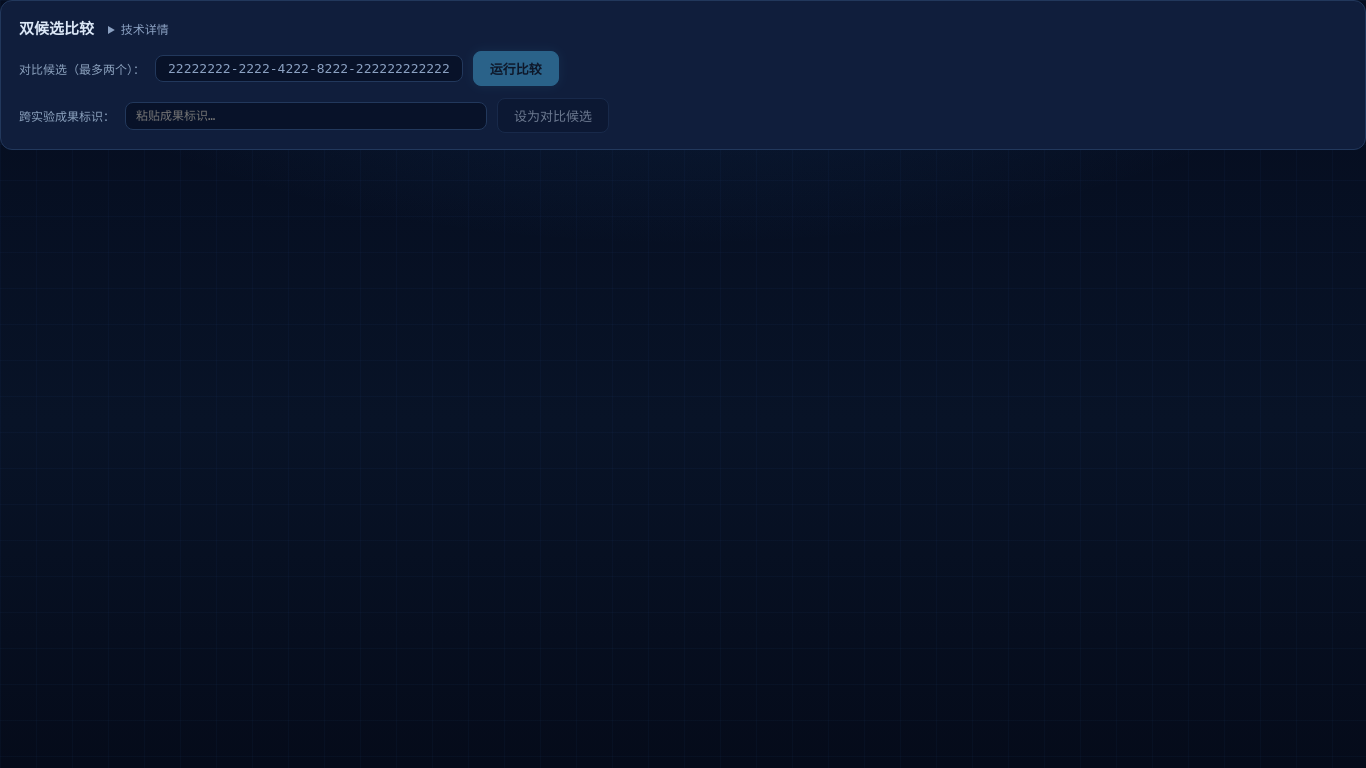
Test: CandidateComparison 跨实验候选输入 › 409（比较同一候选）：前端不自行拦截，透传后端错误封套
The width and height of the screenshot is (1366, 768).
Type "11111111-1111-4111-8111-111111111111" into the field with test id "comparison-external-input". click: (306, 116)
box: [125, 102, 487, 130]
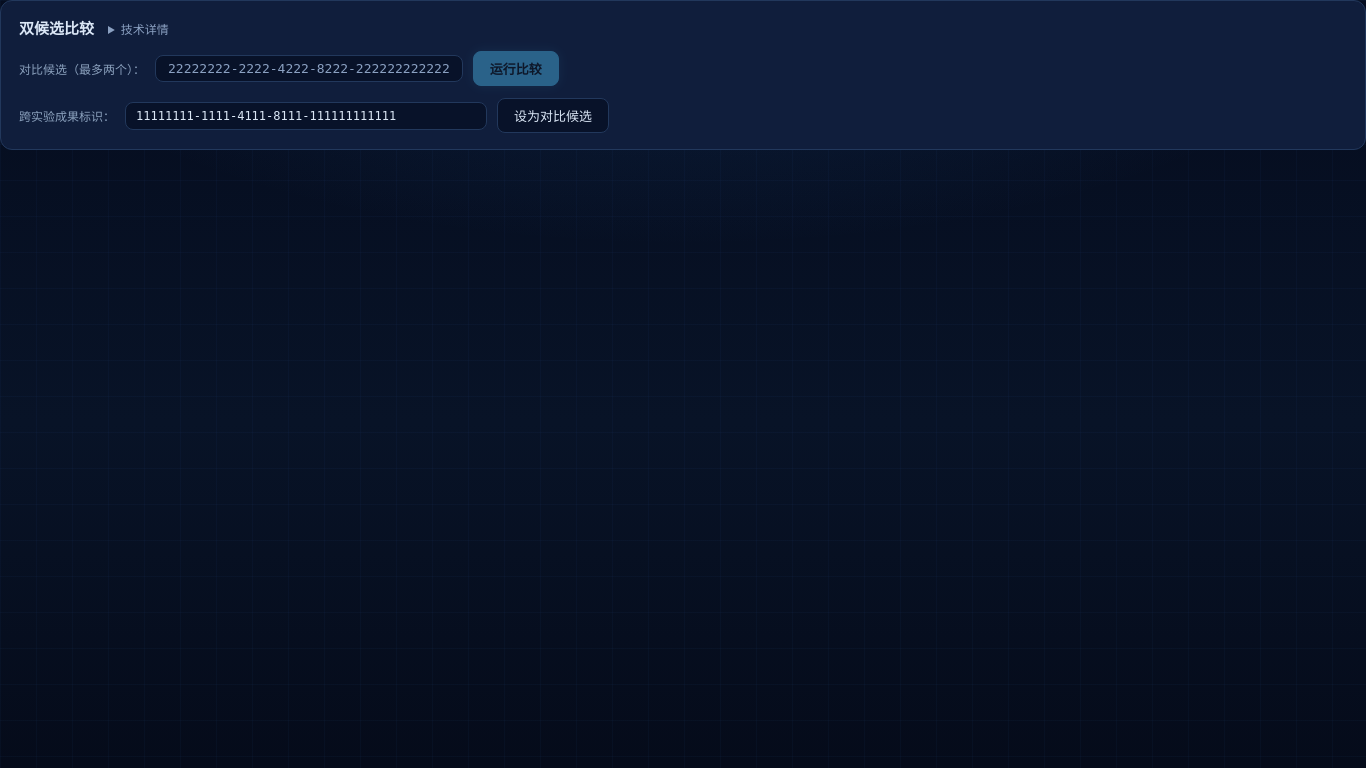
Click the button with test id "comparison-external-apply". click: (553, 116)
box: [497, 98, 609, 133]
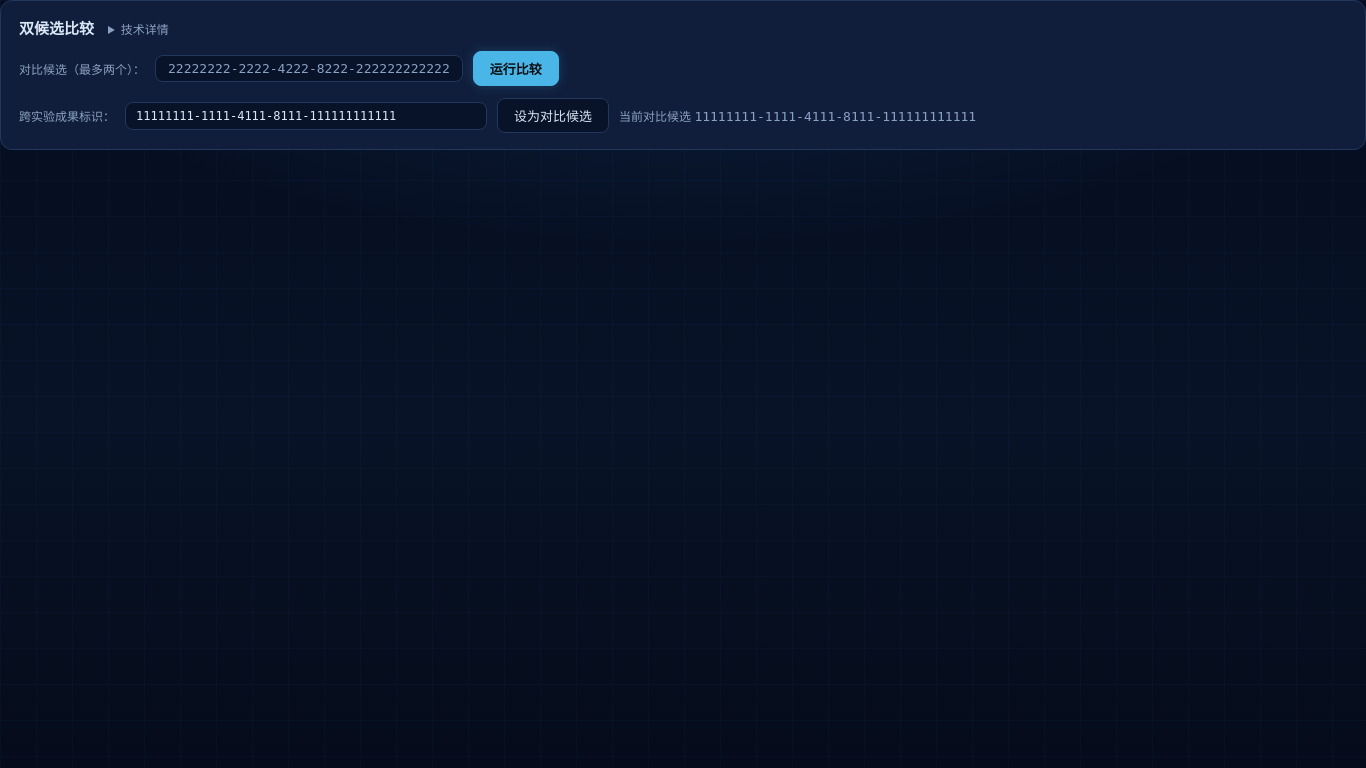
Click the button with test id "comparison-run". click: (516, 68)
box: [473, 51, 559, 86]
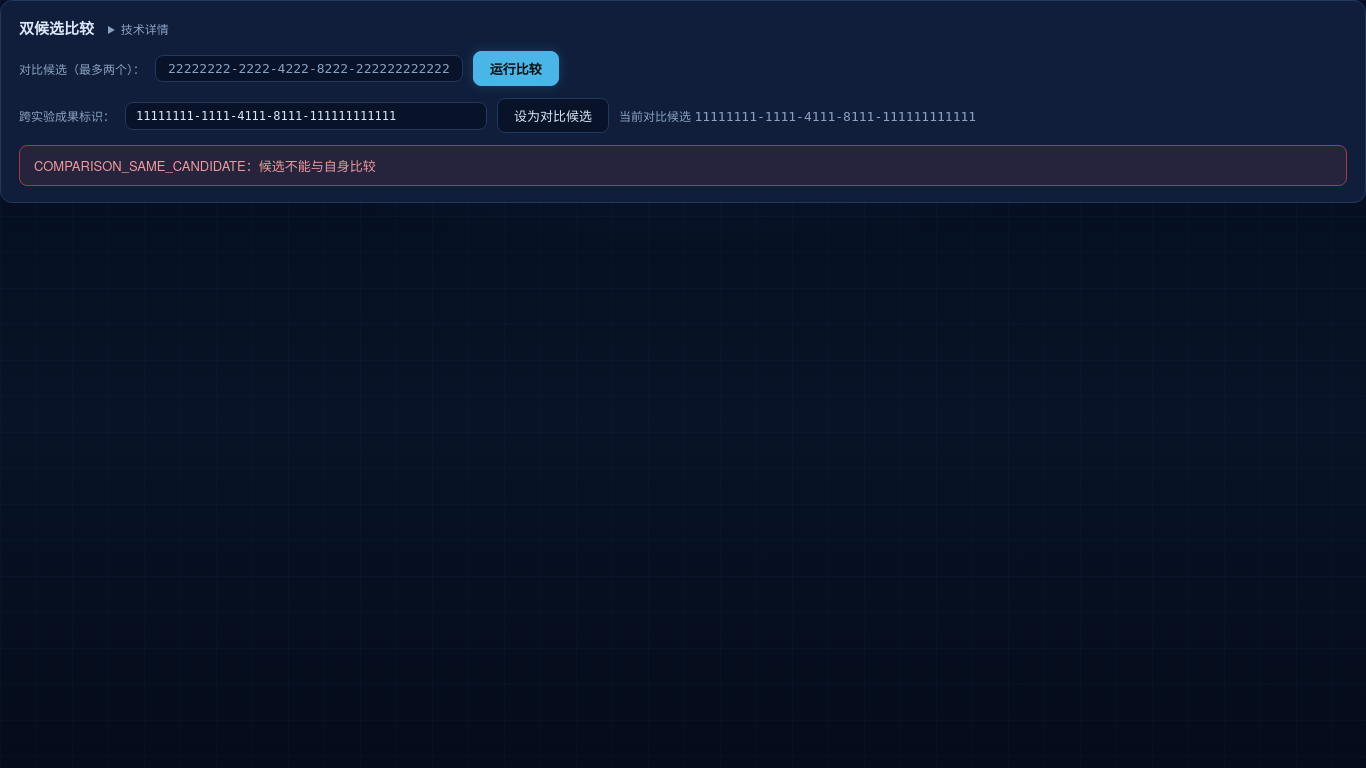
Expected: the text with test id "comparison-error" shows "COMPARISON_SAME_CANDIDATE", [34, 156, 376, 175]
Expected: the text with test id "comparison-error" shows "候选不能与自身比较", [34, 156, 376, 175]
